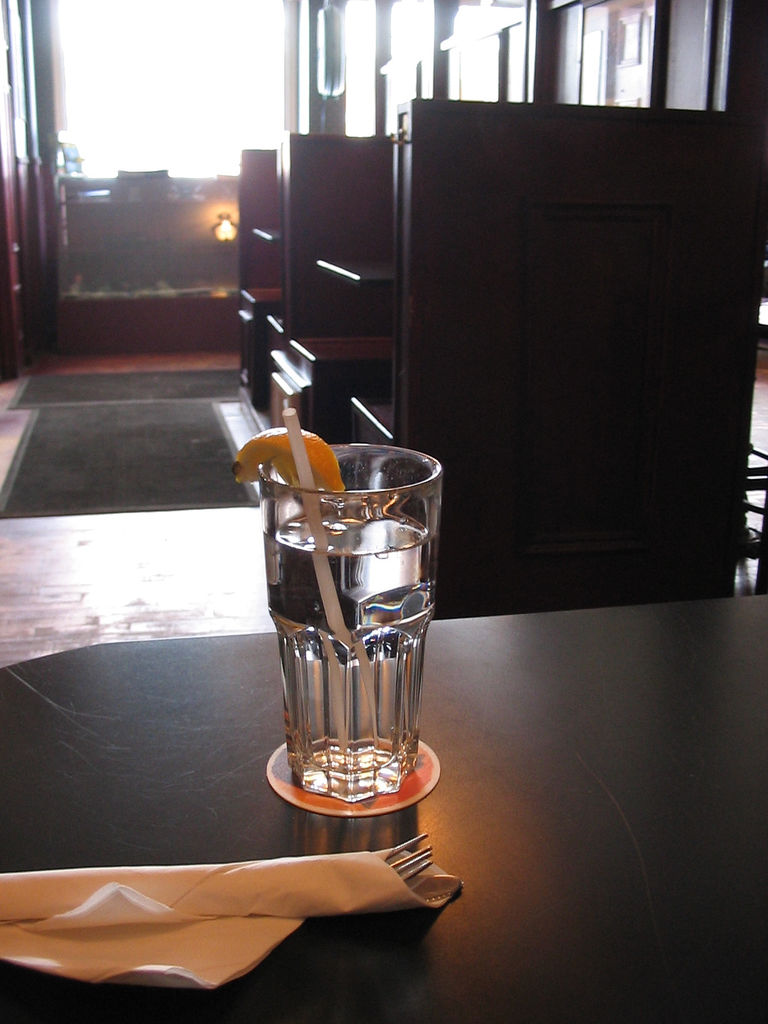glass of water: (256, 483, 445, 801)
